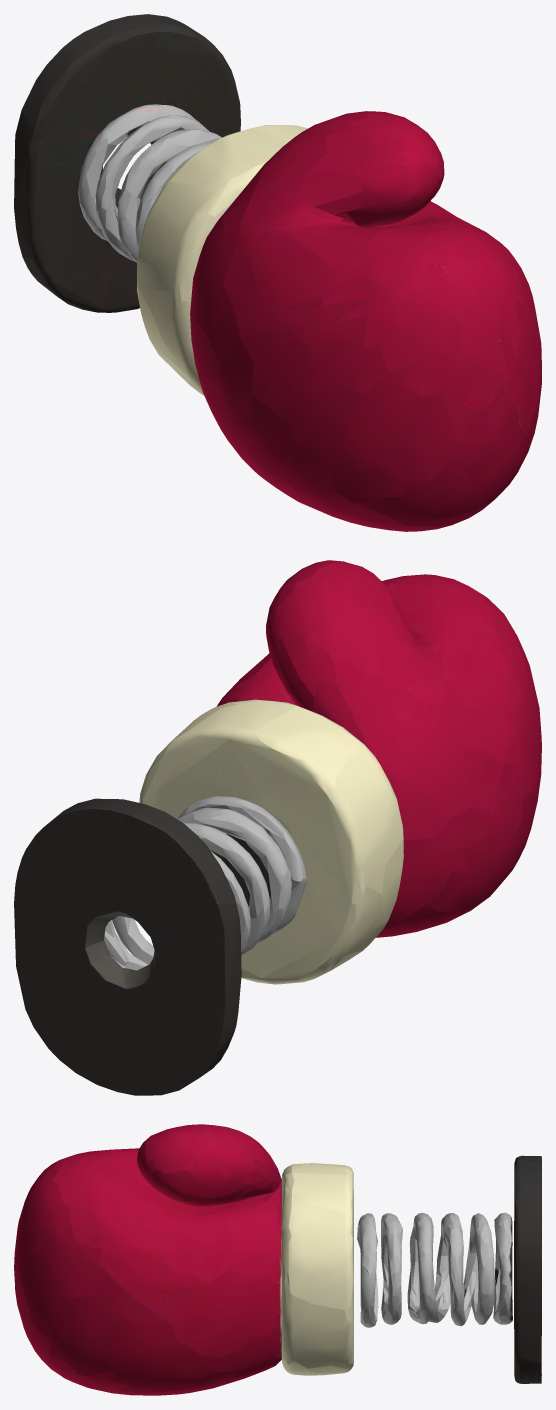
The model's file is boxing_glove.glb.
3 views of the same model, one above another, from view 1: azimuth 30°, elevation 25°; view 2: azimuth 150°, elevation 25°; view 3: azimuth 270°, elevation 25° (orthographic). The views are drawn at different scales.
Size of the model in its own units: 0.85 by 1.04 by 1.9.
1 material, 1 textured.
